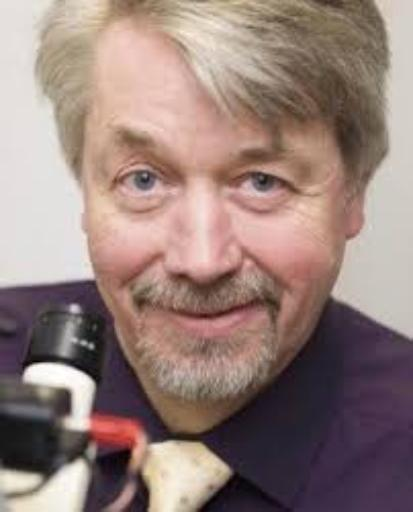left_eye: (229, 171, 298, 203)
left_lip_corner: (248, 292, 278, 318)
right_eye: (113, 171, 179, 203)
right_lip_corner: (154, 301, 180, 321)
